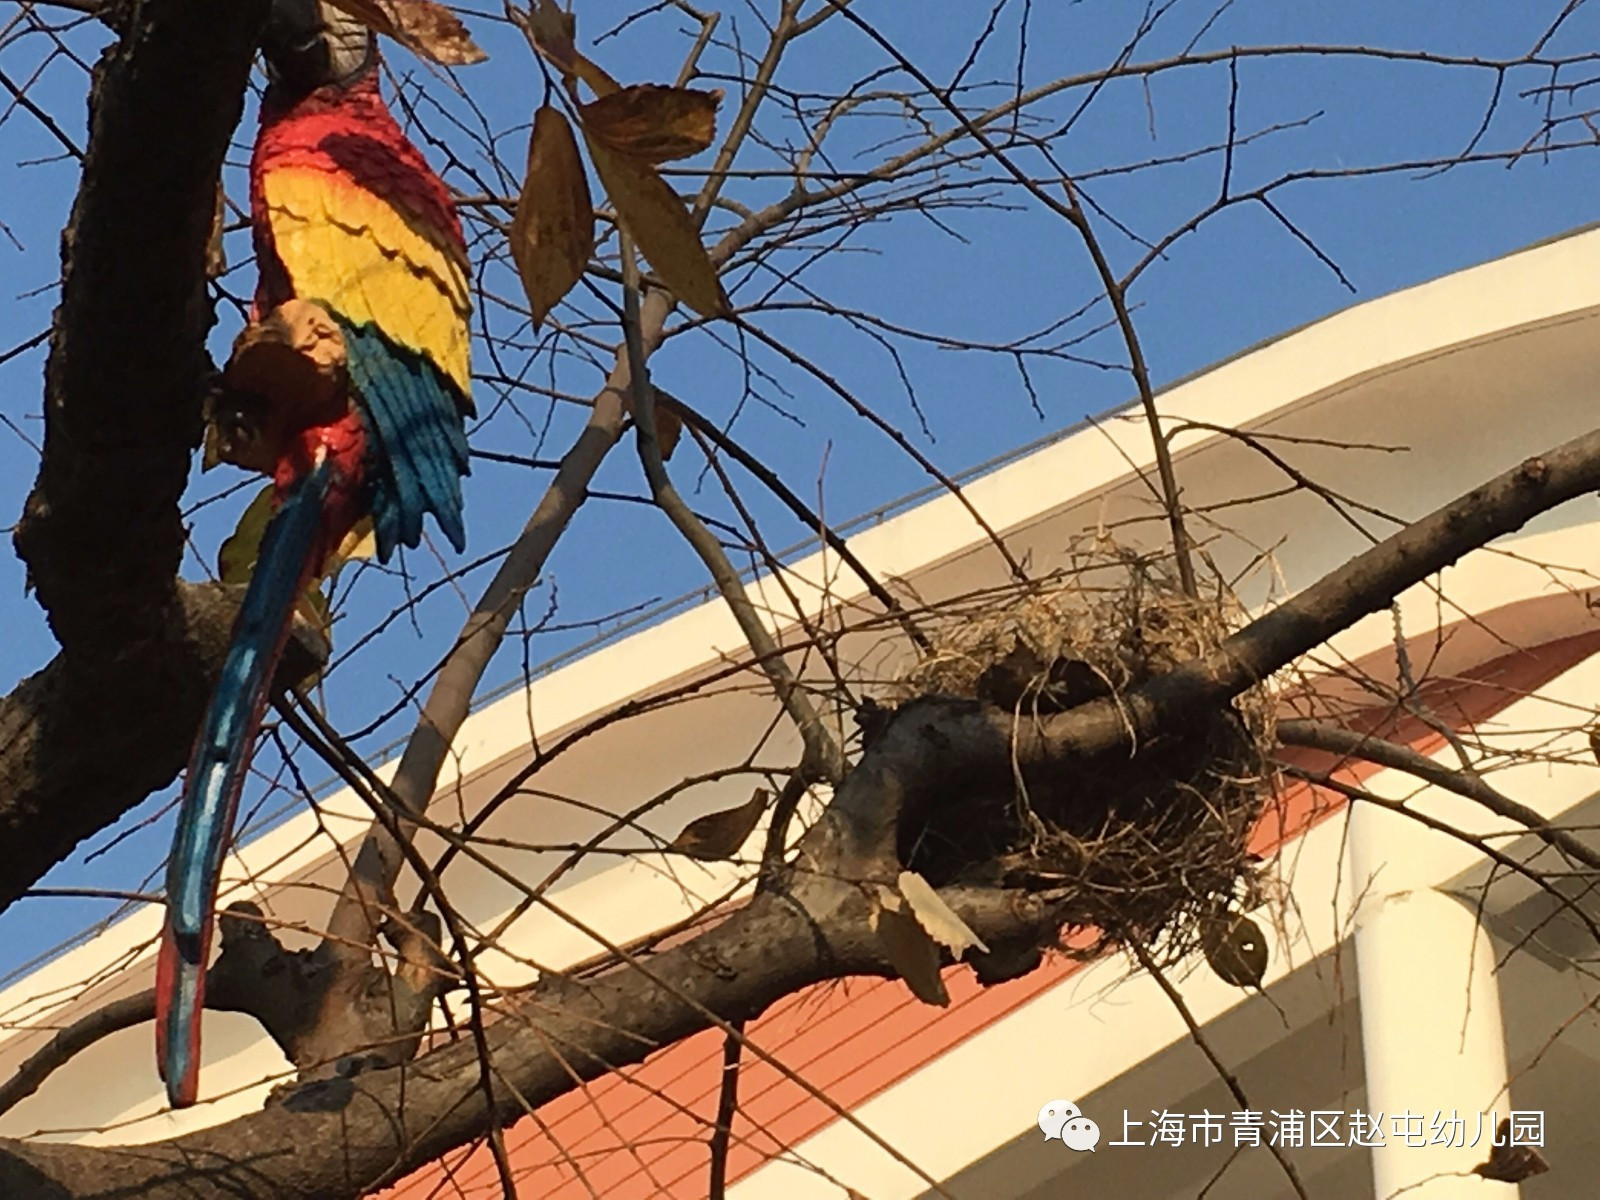bird-nest: (838, 575, 1272, 962)
